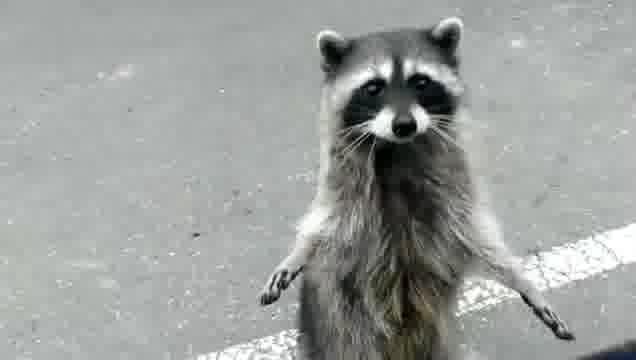raccoon: (255, 17, 576, 360)
